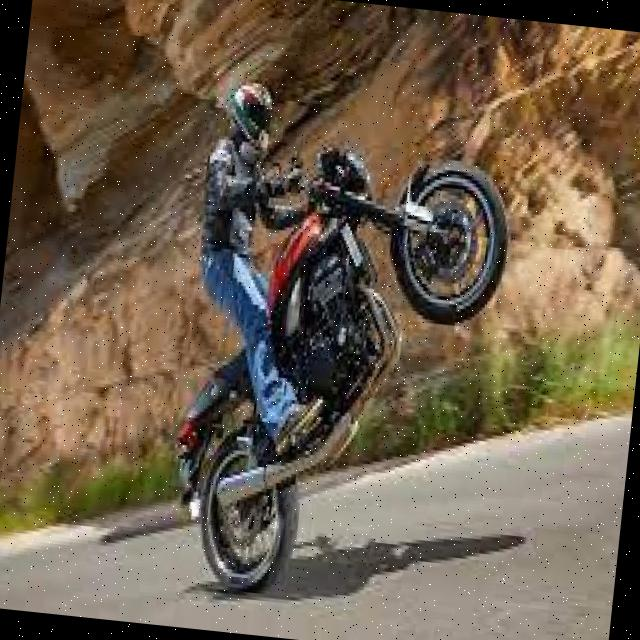Wheeling: (153, 64, 524, 621)
